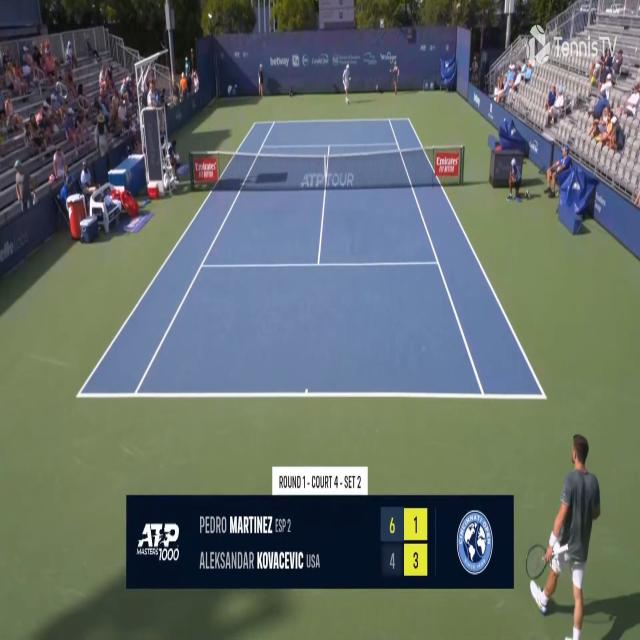tennis-player: (524, 432, 601, 626), (343, 61, 352, 106)
